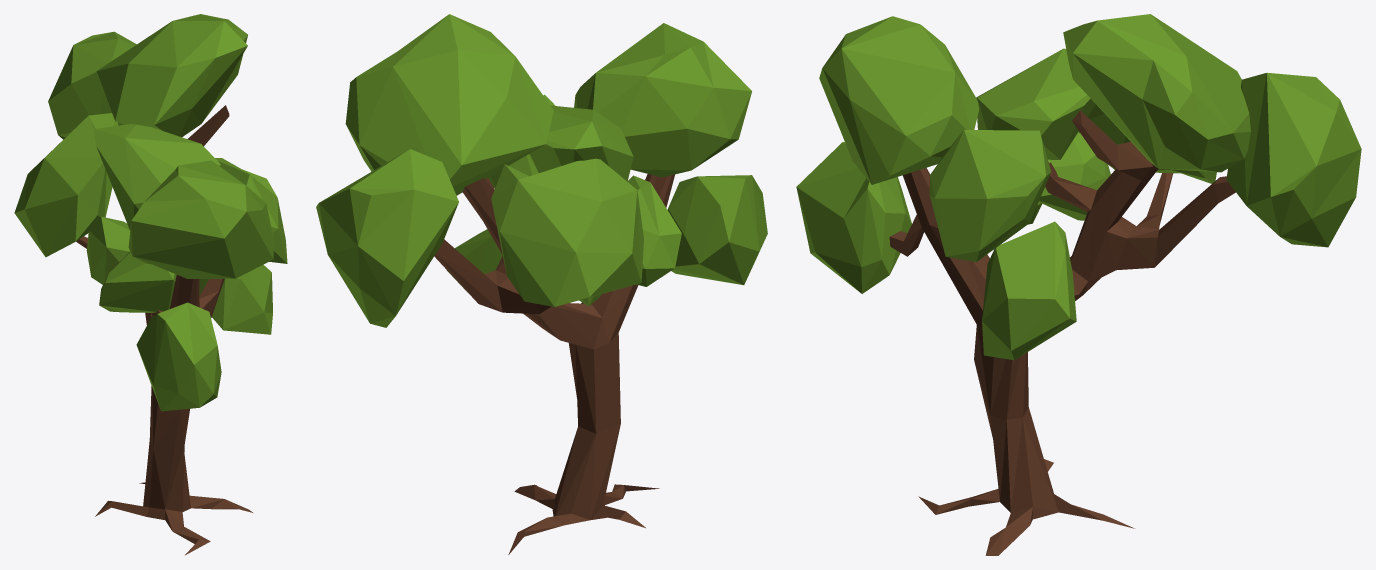
The model's file is bigtree.fbx.
3 renders of one model, left to right at view 1: azimuth 30°, elevation 25°; view 2: azimuth 150°, elevation 25°; view 3: azimuth 270°, elevation 25°, orthographic. The views are drawn at different scales.
Parts seen in each view (by area): view 1: t1-green; view 2: t1-green; view 3: t1-green.
Part boxes in pixels (<box>): t1-green: <box>14,14,287,555</box>; t1-green: <box>316,14,767,554</box>; t1-green: <box>796,14,1361,555</box>.
Bounding box in the file's own units: 6.3 × 11.54 × 10.77.
